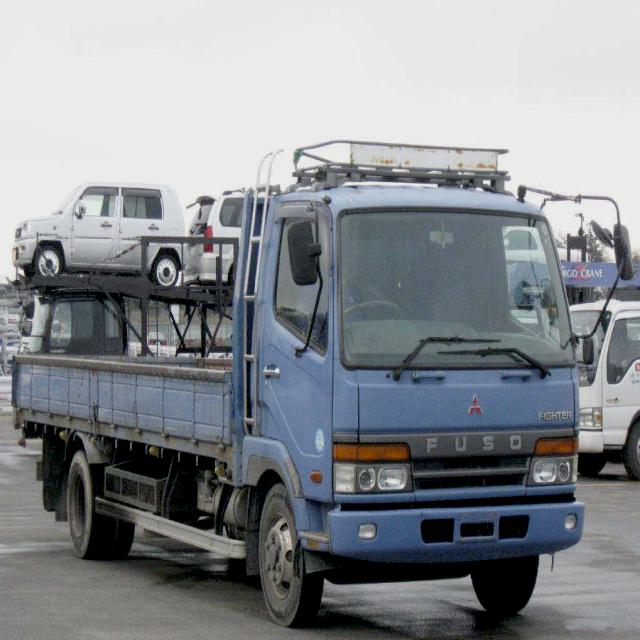truck: (11, 143, 631, 629)
